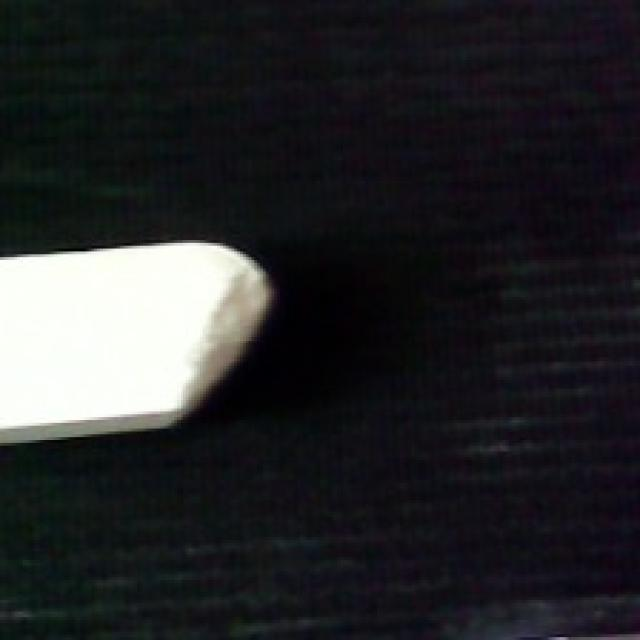defected: (0, 234, 280, 446)
